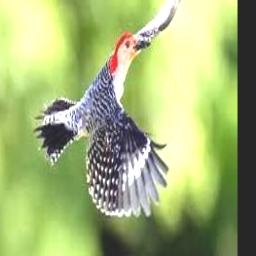Woodpecker: (35, 0, 184, 217)
